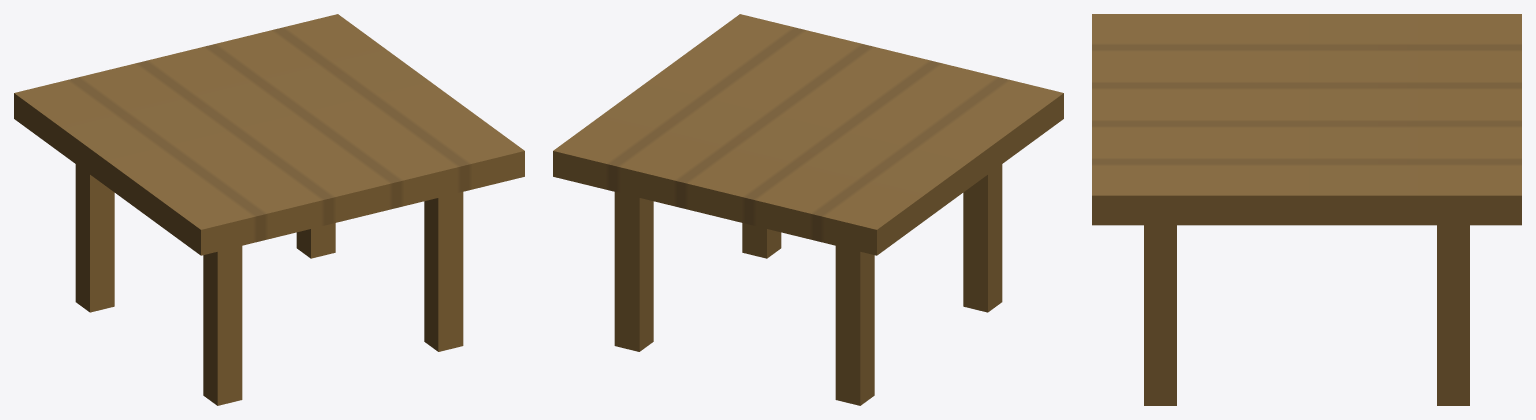
File: SM_Prop_Table_02.glb
3 views of the same model, side by side, from view 1: azimuth 30°, elevation 25°; view 2: azimuth 150°, elevation 25°; view 3: azimuth 270°, elevation 25° (orthographic). The views are drawn at different scales.
Visible parts, largest first — view 1: SM_Prop_Table_02; view 2: SM_Prop_Table_02; view 3: SM_Prop_Table_02.
Boxes of the visible parts, x1,y1,x2,y2 form: SM_Prop_Table_02: (14,14,524,405); SM_Prop_Table_02: (553,14,1063,405); SM_Prop_Table_02: (1092,14,1521,405).
Bounding box in the file's own units: 0.0223 × 0.0133 × 0.0223.
1 material, 1 textured.
